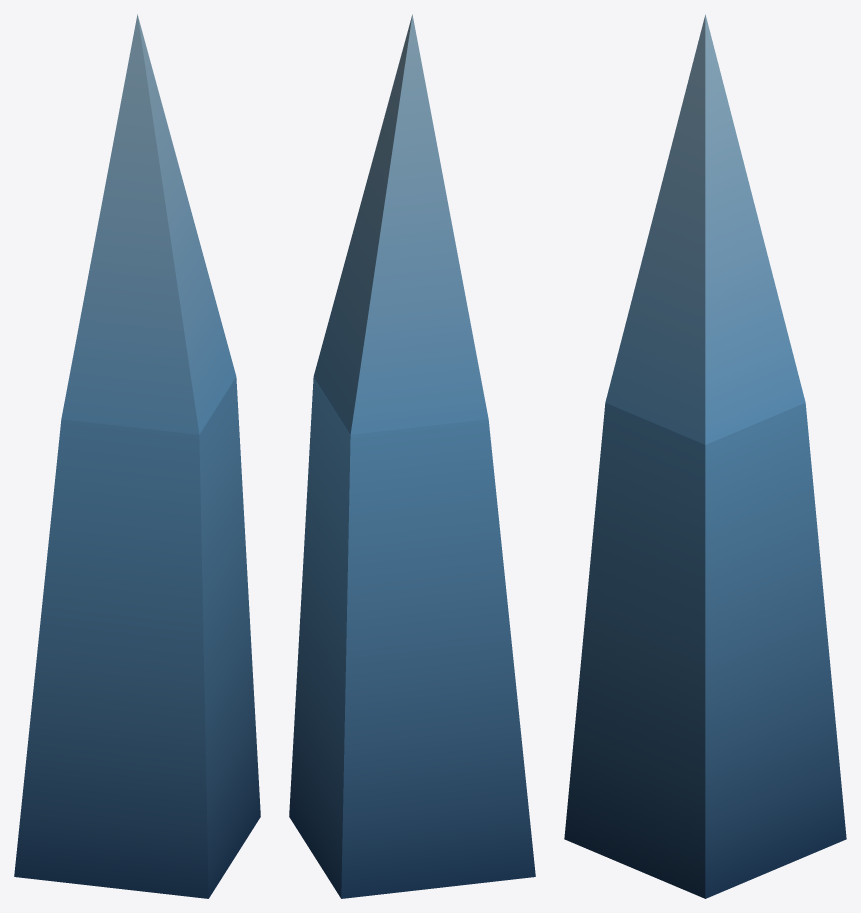
Rendered from ice.shard-low.glb.
3 views of the same model, side by side, from view 1: azimuth 30°, elevation 25°; view 2: azimuth 150°, elevation 25°; view 3: azimuth 270°, elevation 25° (orthographic).
Visible parts, largest first — view 1: ice.shard; view 2: ice.shard; view 3: ice.shard.
Part boxes in pixels (bbox=[...]): ice.shard: bbox=[14, 14, 260, 898]; ice.shard: bbox=[289, 14, 535, 898]; ice.shard: bbox=[564, 14, 846, 898].
Bounding box in the file's own units: 0.434 × 1.4 × 0.434.
